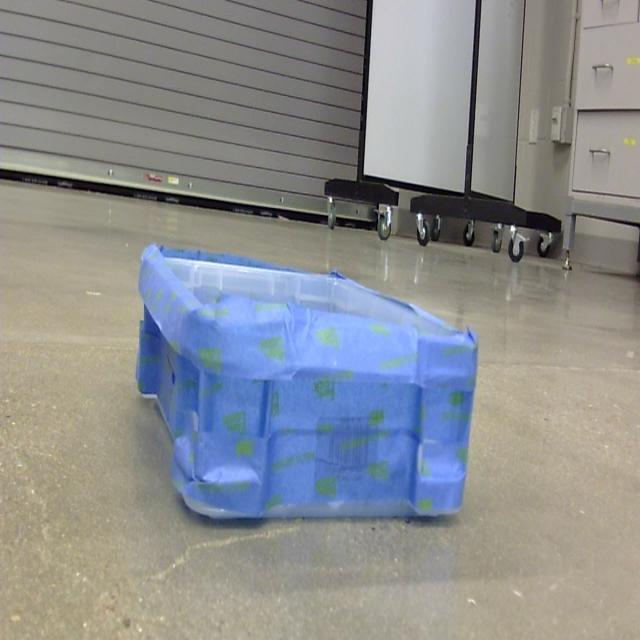bucket: (136, 244, 479, 527)
